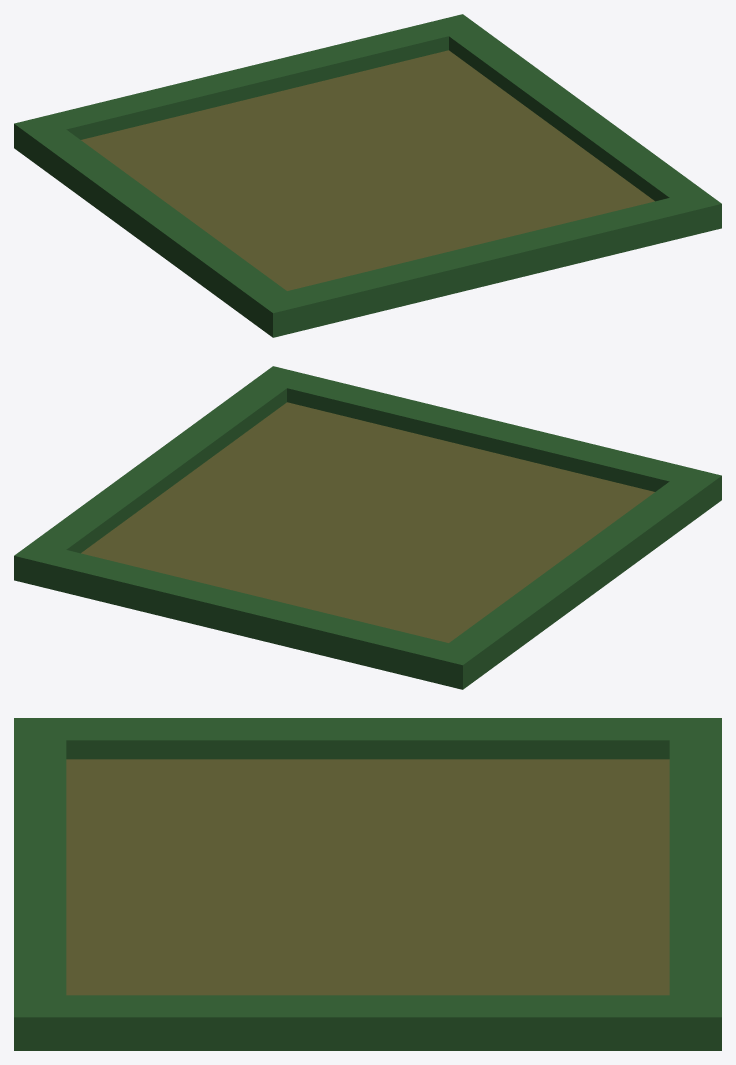
The model's file is staticMesh_prop_Buttondoor.fbx.
3 renders of one model, top to bottom at view 1: azimuth 30°, elevation 25°; view 2: azimuth 150°, elevation 25°; view 3: azimuth 270°, elevation 25°, orthographic. The views are drawn at different scales.
Parts seen in each view (by area): view 1: polySurface1; view 2: polySurface1; view 3: polySurface1.
Boxes of the visible parts, <box> form: polySurface1: <box>14,14,721,337</box>; polySurface1: <box>14,366,721,689</box>; polySurface1: <box>14,718,721,1050</box>.
Bounding box in the file's own units: 64.82 × 3.4 × 64.82.
